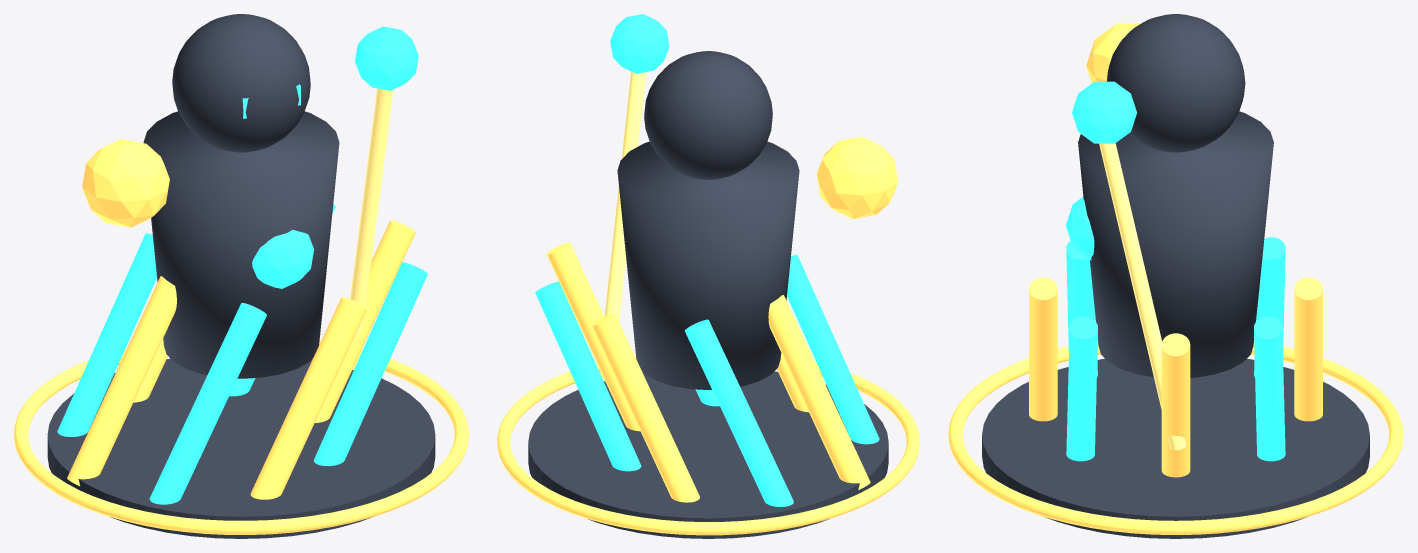
File: kraken.glb
The picture shows the model from 3 angles, left to right: view 1: azimuth 30°, elevation 25°; view 2: azimuth 150°, elevation 25°; view 3: azimuth 270°, elevation 25°; orthographic projection. The views are drawn at different scales.
Visible parts, largest first — view 1: AgentTorso, AbilityPedestal, AgentHead, AbilityAuraRing, Tentacle_6, Tentacle_5, Tentacle_7, Tentacle_4, Pet_KRAKEN, Tentacle_3, Tentacle_0, SignatureWeapon (+3 smaller); view 2: AgentTorso, AbilityPedestal, AgentHead, AbilityAuraRing, Tentacle_1, Tentacle_2, Tentacle_3, Tentacle_4, Pet_KRAKEN, Tentacle_5, Tentacle_0, SignatureWeapon (+2 smaller); view 3: AbilityPedestal, AgentTorso, AgentHead, AbilityAuraRing, SignatureWeapon, Tentacle_1, Tentacle_7, Tentacle_2, Tentacle_6, Tentacle_0, WeaponApex, Tentacle_3 (+3 smaller).
Boxes of the visible parts, bbox=[...] form: AgentTorso: bbox=[143, 111, 339, 378]; AbilityPedestal: bbox=[47, 358, 435, 538]; AgentHead: bbox=[172, 14, 310, 152]; AbilityAuraRing: bbox=[14, 340, 468, 534]; Tentacle_6: bbox=[250, 297, 367, 499]; Tentacle_5: bbox=[149, 303, 266, 504]; Tentacle_7: bbox=[313, 262, 427, 466]; Tentacle_4: bbox=[67, 276, 176, 486]; Pet_KRAKEN: bbox=[82, 139, 169, 227]; Tentacle_3: bbox=[57, 233, 156, 436]; Tentacle_0: bbox=[315, 220, 415, 422]; SignatureWeapon: bbox=[350, 88, 393, 369]; AgentTorso: bbox=[617, 141, 799, 389]; AbilityPedestal: bbox=[528, 371, 888, 538]; AgentHead: bbox=[644, 51, 772, 179]; AbilityAuraRing: bbox=[497, 354, 919, 535]; Tentacle_1: bbox=[535, 281, 641, 471]; Tentacle_2: bbox=[591, 314, 699, 502]; Tentacle_3: bbox=[685, 319, 793, 506]; Tentacle_4: bbox=[768, 295, 870, 489]; Pet_KRAKEN: bbox=[816, 136, 898, 218]; Tentacle_5: bbox=[787, 255, 879, 444]; Tentacle_0: bbox=[546, 242, 639, 431]; SignatureWeapon: bbox=[599, 71, 646, 381]; AbilityPedestal: bbox=[982, 358, 1369, 538]; AgentTorso: bbox=[1078, 111, 1273, 377]; AgentHead: bbox=[1106, 14, 1245, 152]; AbilityAuraRing: bbox=[948, 341, 1403, 534]; SignatureWeapon: bbox=[1099, 143, 1186, 450]; Tentacle_1: bbox=[1254, 316, 1285, 461]; Tentacle_7: bbox=[1066, 316, 1097, 461]; Tentacle_2: bbox=[1294, 277, 1322, 421]; Tentacle_6: bbox=[1029, 277, 1057, 421]; Tentacle_0: bbox=[1161, 333, 1190, 477]; WeaponApex: bbox=[1072, 81, 1136, 143]; Tentacle_3: bbox=[1254, 237, 1285, 376].
Bounding box in the file's own units: 2.23 × 2.36 × 2.23.
